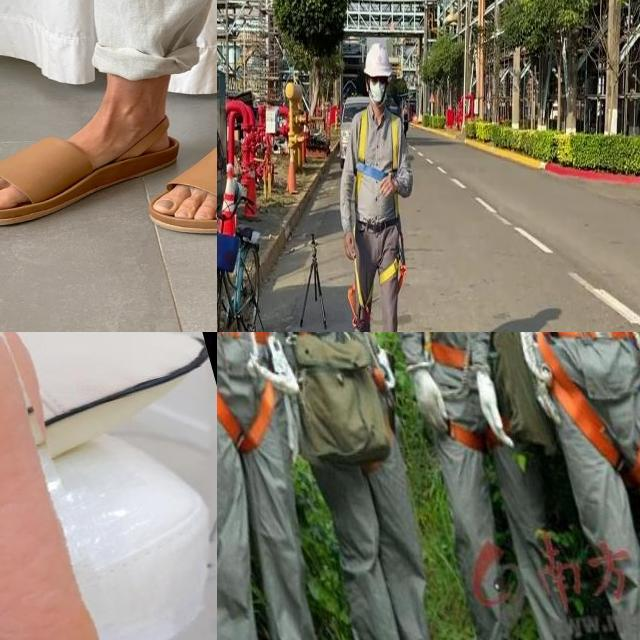Barefoots: (0, 332, 172, 640)
Harness: (538, 332, 640, 486), (356, 109, 401, 192)
Sandals: (0, 112, 147, 226), (153, 105, 217, 235)
